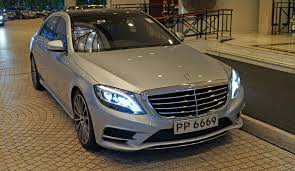number_plate: (170, 113, 228, 136)
